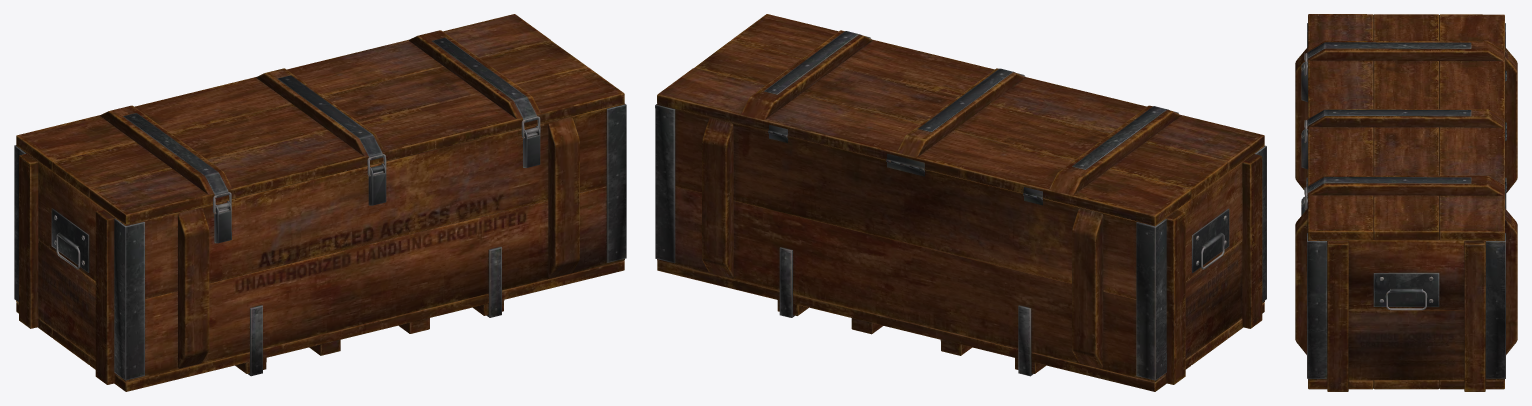
Rendered from wooden_military_crate.glb.
3 views of the same model, side by side, from view 1: azimuth 30°, elevation 25°; view 2: azimuth 150°, elevation 25°; view 3: azimuth 270°, elevation 25° (orthographic). The views are drawn at different scales.
Parts seen in each view (by area): view 1: wooden_military_crate, wooden_military_crate_lid; view 2: wooden_military_crate, wooden_military_crate_lid; view 3: wooden_military_crate_lid, wooden_military_crate.
Part boxes in pixels (<box>): wooden_military_crate: <box>14,103,626,391</box>; wooden_military_crate_lid: <box>16,14,624,224</box>; wooden_military_crate: <box>655,104,1266,391</box>; wooden_military_crate_lid: <box>657,14,1264,225</box>; wooden_military_crate_lid: <box>1304,14,1506,240</box>; wooden_military_crate: <box>1295,23,1517,391</box>.
Bounding box in the file's own units: 1.24 × 0.4647 × 0.5198.
1 material, 1 textured.
